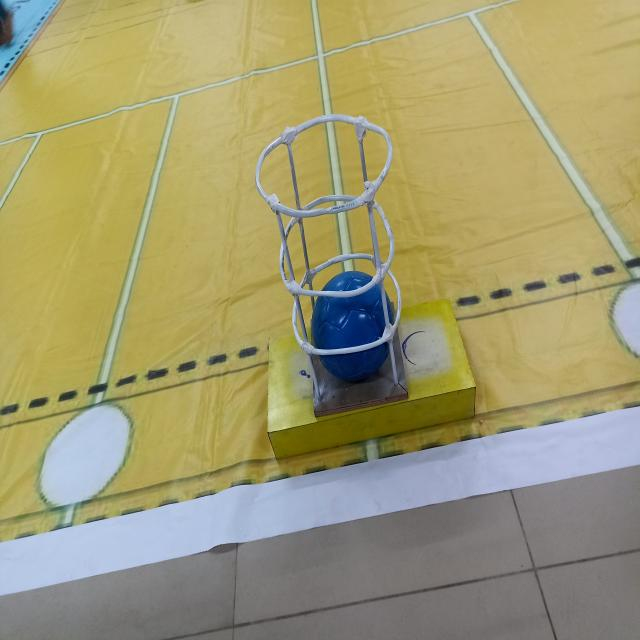blue_ball: (306, 270, 398, 377)
silo: (246, 102, 429, 414)
